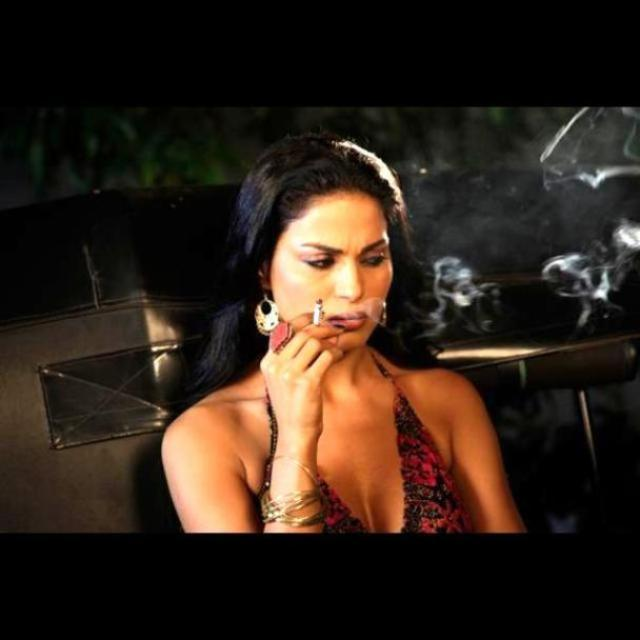rokok: (310, 294, 326, 330)
